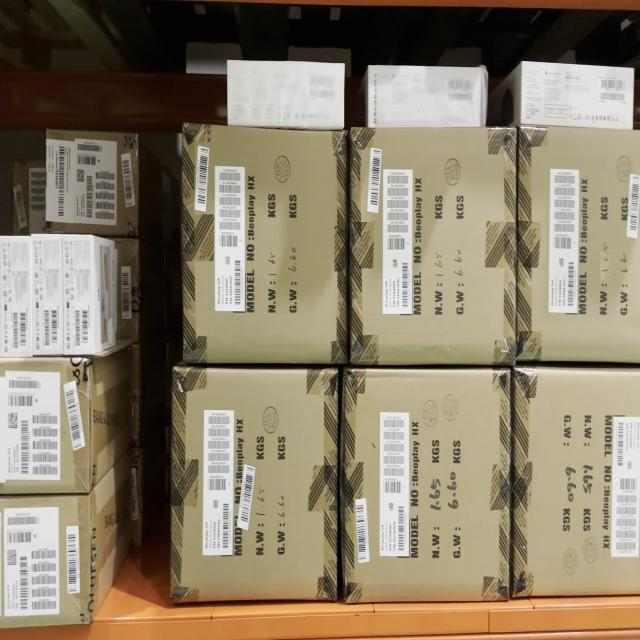box: (352, 127, 513, 365), (185, 127, 344, 363), (347, 376, 510, 600), (175, 373, 335, 599), (62, 240, 96, 355), (32, 238, 60, 357)
